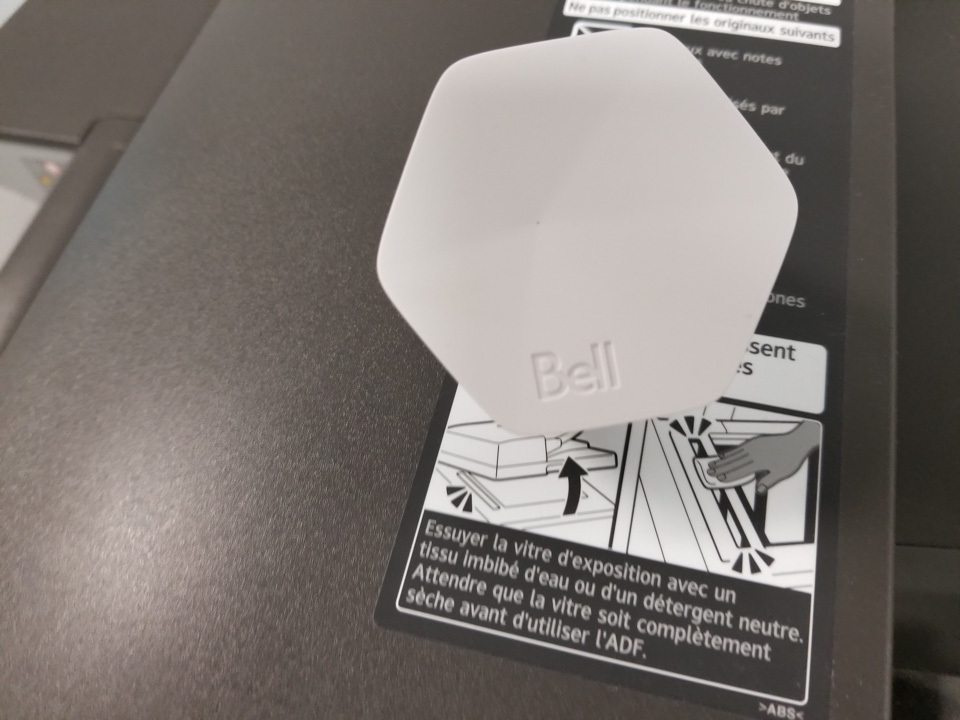pod: (374, 20, 808, 446)
